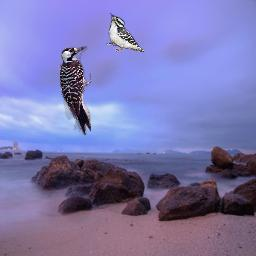Woodpecker: (60, 46, 91, 135), (106, 13, 145, 52)
